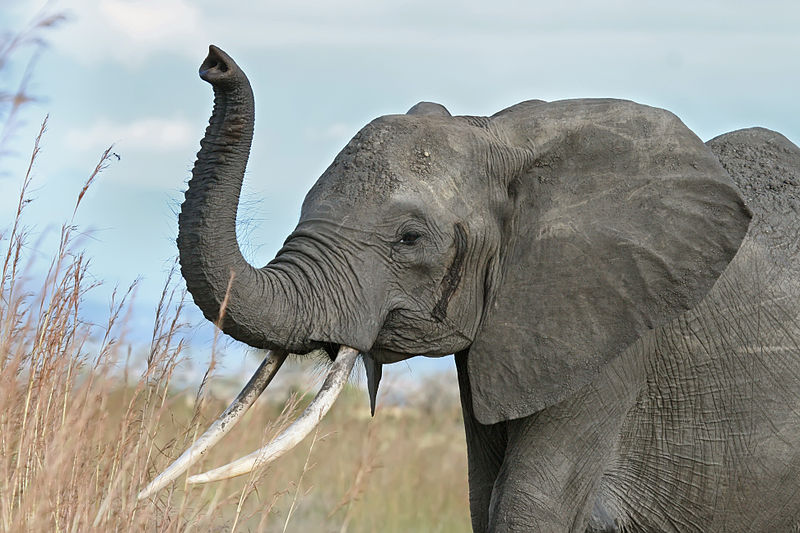Elephant: (106, 20, 795, 521)
